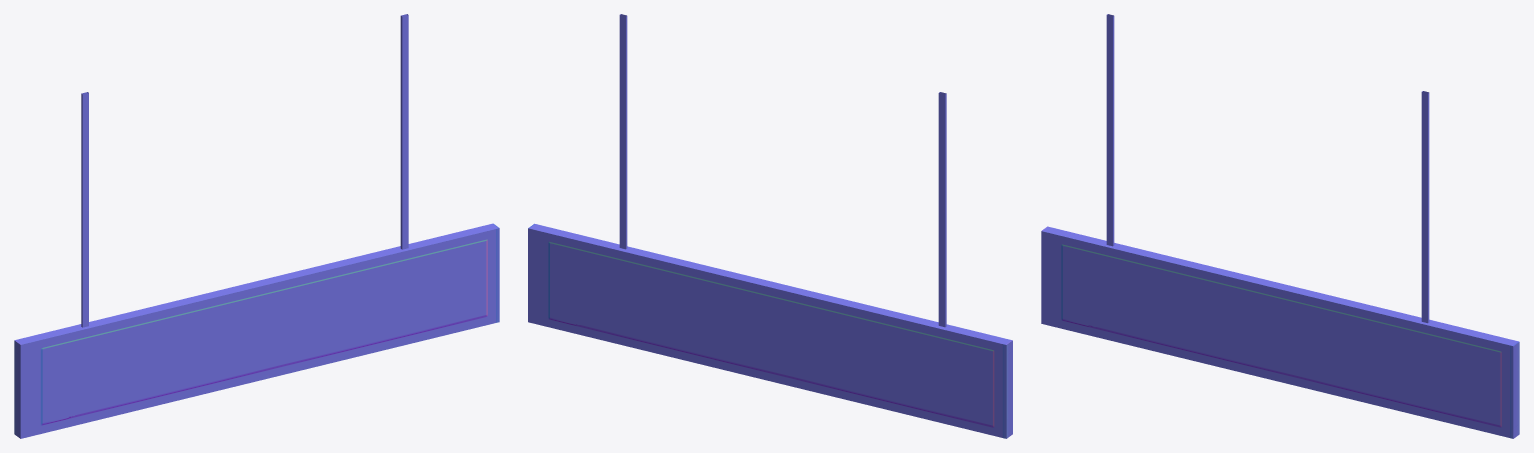
File: Name_Board.fbx
3 views of the same model, side by side, from view 1: azimuth 30°, elevation 25°; view 2: azimuth 150°, elevation 25°; view 3: azimuth 330°, elevation 25° (orthographic).
Visible parts, largest first — view 1: Name_Board; view 2: Name_Board; view 3: Name_Board.
Part boxes in pixels (bbox=[...]): Name_Board: bbox=[14, 14, 499, 438]; Name_Board: bbox=[528, 14, 1012, 438]; Name_Board: bbox=[1041, 14, 1519, 438].
Bounding box in the file's own units: 102 × 66.83 × 2.36.
1 material, 1 textured.
